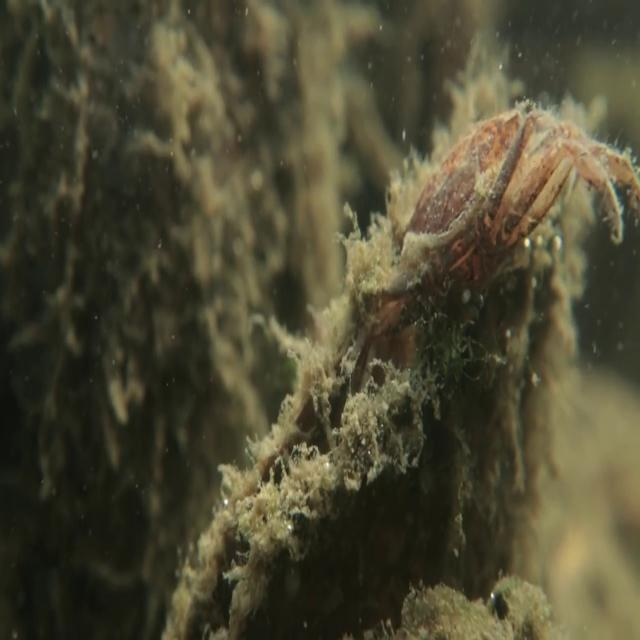Oyster-Open: (160, 89, 598, 637)
